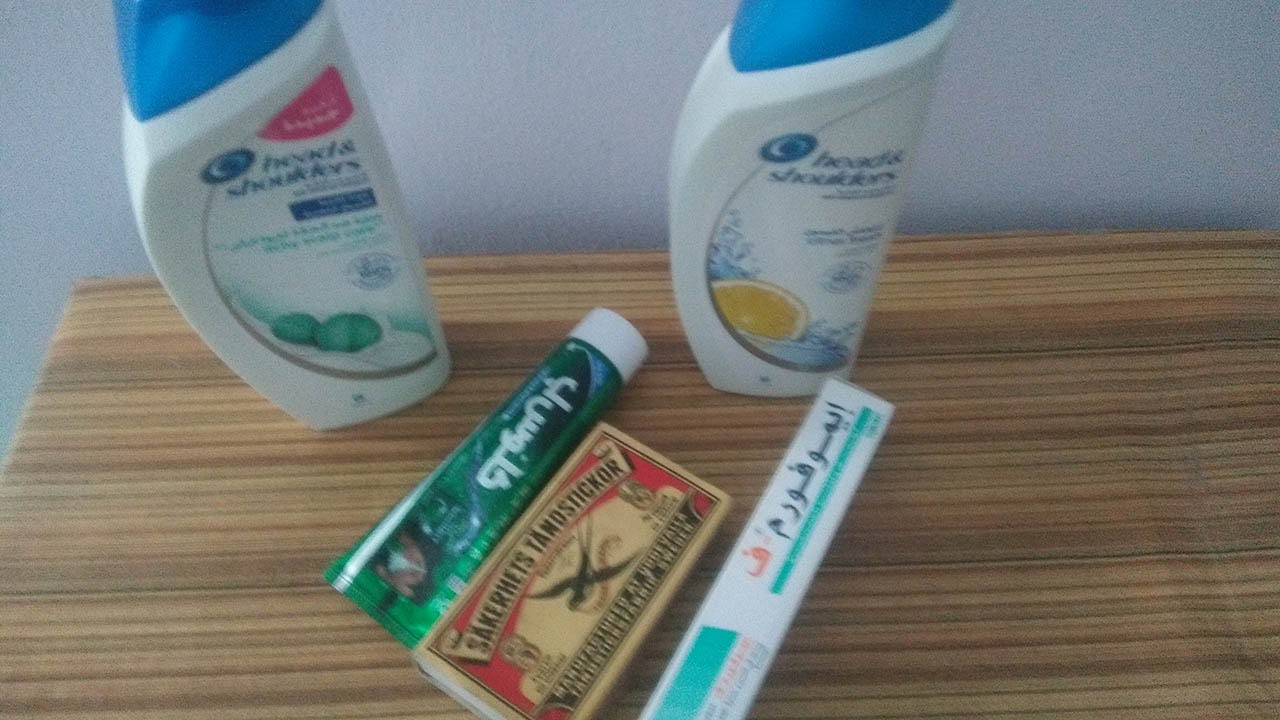Toothpaste-Closeup 3.04$: (390, 310, 660, 580)
Toothpaste-F 1.5$: (722, 392, 902, 720)
match-sticks .90$: (460, 472, 735, 720)
shampoo-Lemon 3.5$: (690, 3, 969, 400)
shampoo-green 4.5$: (98, 1, 453, 417)
